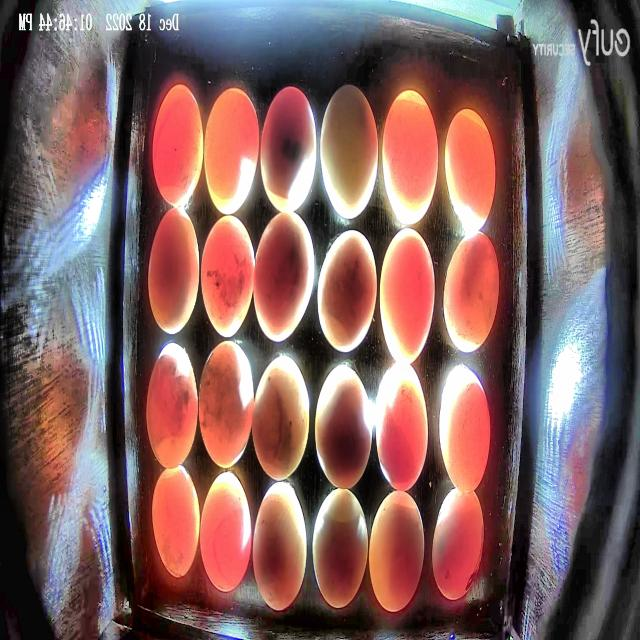DE: (253, 210, 315, 342), (380, 227, 436, 366), (321, 84, 378, 220), (382, 90, 438, 227), (318, 229, 378, 351), (252, 355, 310, 481), (316, 364, 373, 490), (261, 86, 317, 213), (198, 342, 254, 468), (374, 363, 428, 493), (442, 229, 499, 352), (369, 489, 426, 612), (204, 88, 259, 215), (254, 482, 308, 611), (312, 488, 368, 608), (200, 216, 254, 338), (148, 207, 199, 334), (146, 344, 198, 468), (444, 107, 496, 230), (440, 366, 489, 493), (201, 471, 252, 593), (152, 84, 203, 206), (431, 490, 484, 599), (152, 467, 200, 579)
